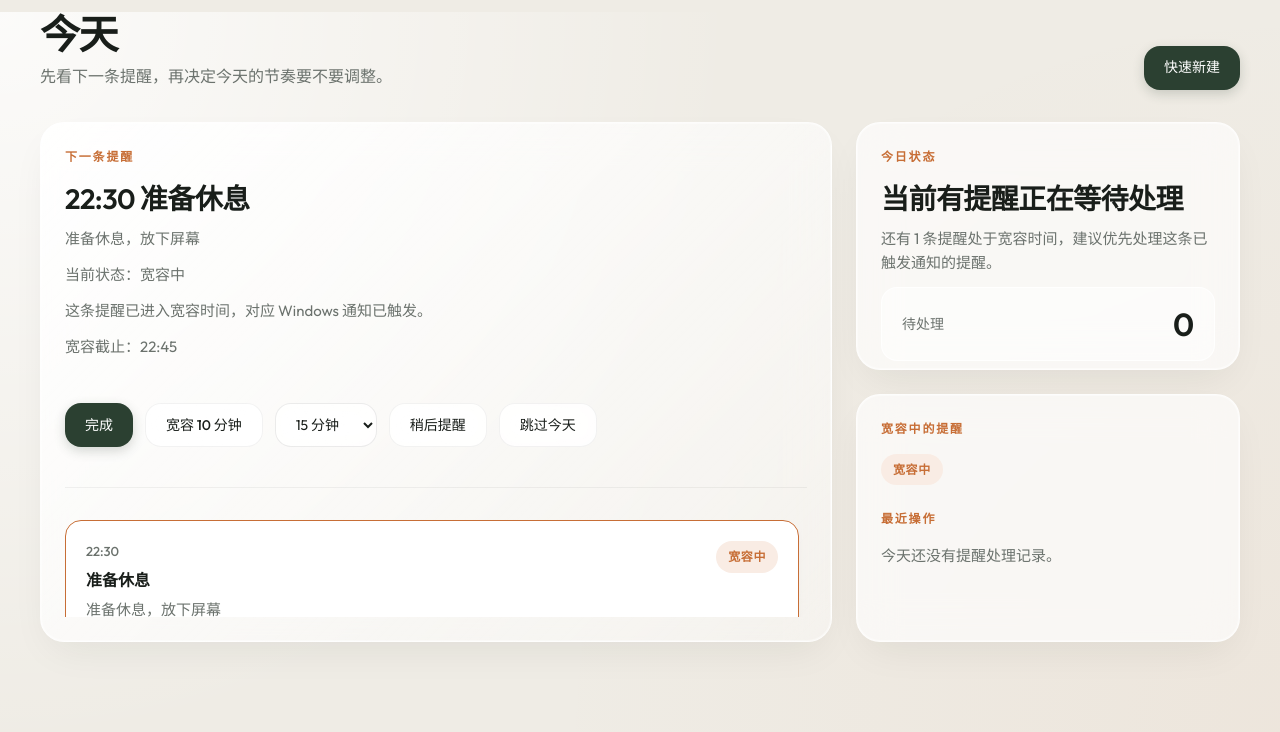
Test: TodayPage › snoozes reminder with selected minutes
Expected: the text "22:30 准备休息" is shown, [65,181,250,216]
Select "30 分钟" in the dropdown named "稍后提醒时长" at coordinates (326, 425), box [275,403,377,447]
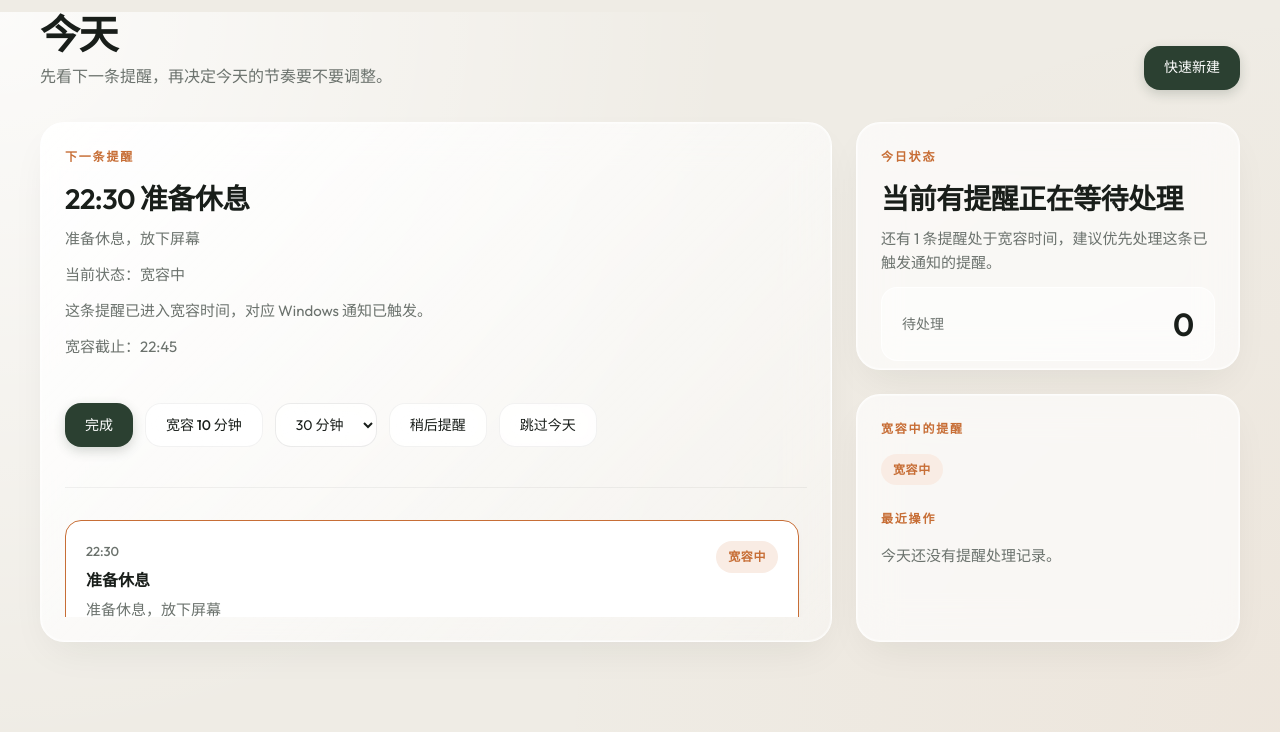
Click the button "稍后提醒" at coordinates (438, 425), box [389,403,487,447]
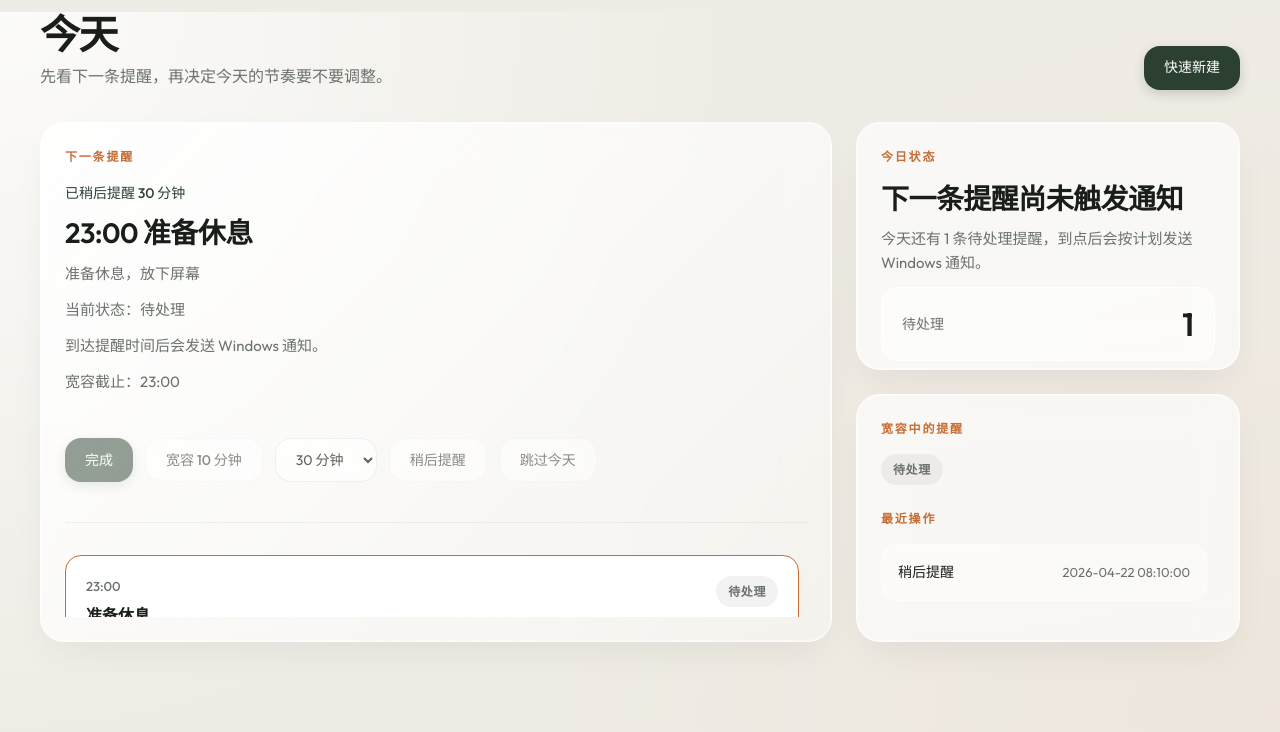
Now the text "已稍后提醒 30 分钟" is shown, box [65,184,185,202]
Now the text "23:00 准备休息" is shown, box [65,215,253,250]
